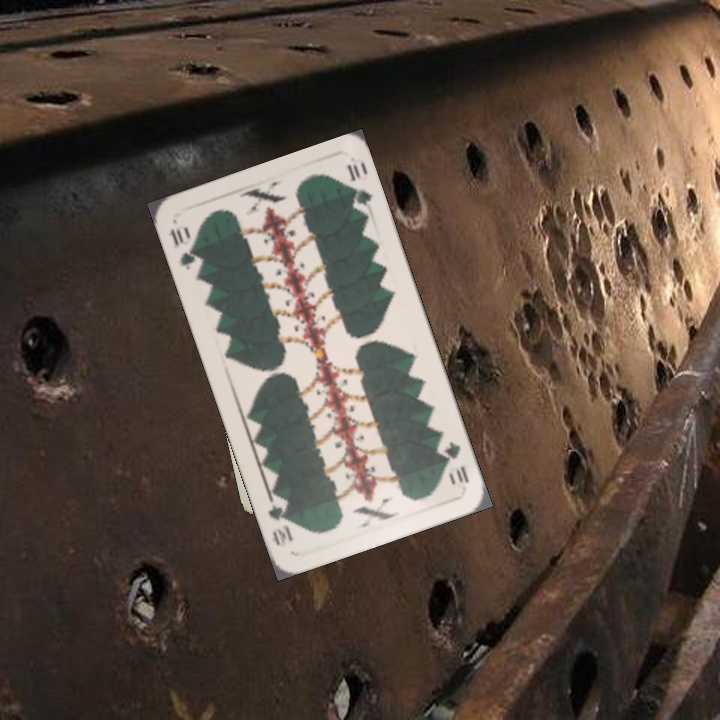G10: (166, 222, 201, 273), (438, 437, 472, 486)
